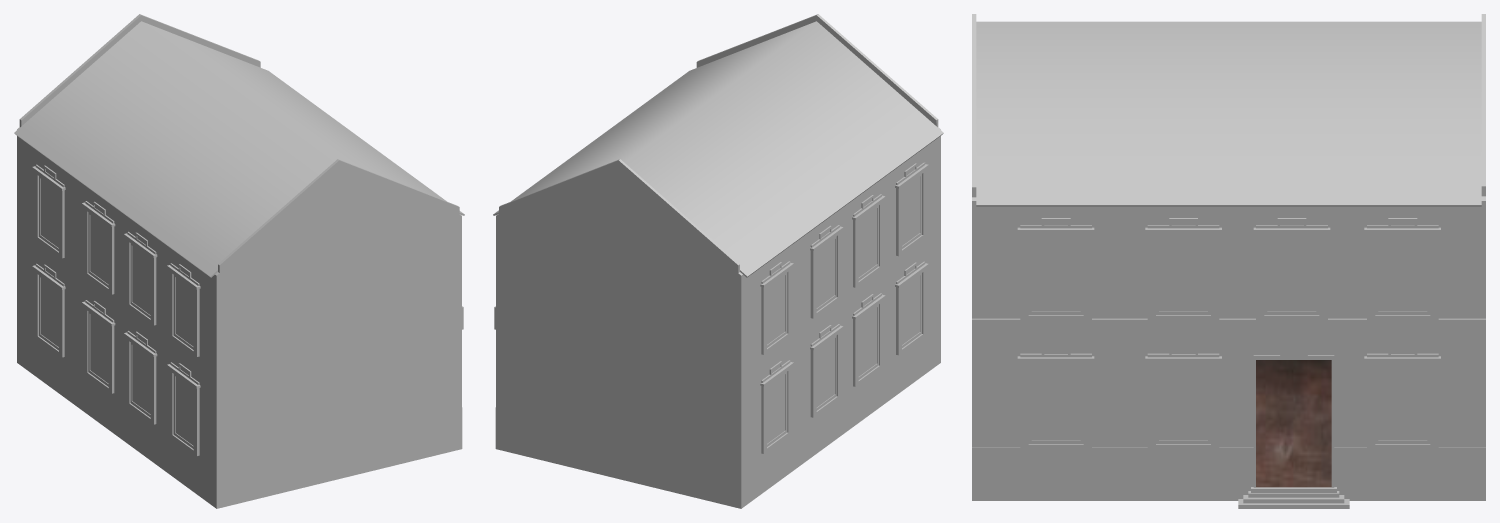
The model's file is PolotskBuilding01.FBX.
The picture shows the model from 3 angles, left to right: view 1: azimuth 30°, elevation 25°; view 2: azimuth 150°, elevation 25°; view 3: azimuth 270°, elevation 25°; orthographic projection. The views are drawn at different scales.
Parts seen in each view (by area): view 1: Plane1414; view 2: Plane1414; view 3: Plane1414.
Boxes of the visible parts, left/top/right/bottom form: Plane1414: left=14, top=14, right=464, bottom=508; Plane1414: left=493, top=14, right=943, bottom=508; Plane1414: left=972, top=14, right=1485, bottom=508.
Size of the model in its own units: 175 by 206 by 233.
